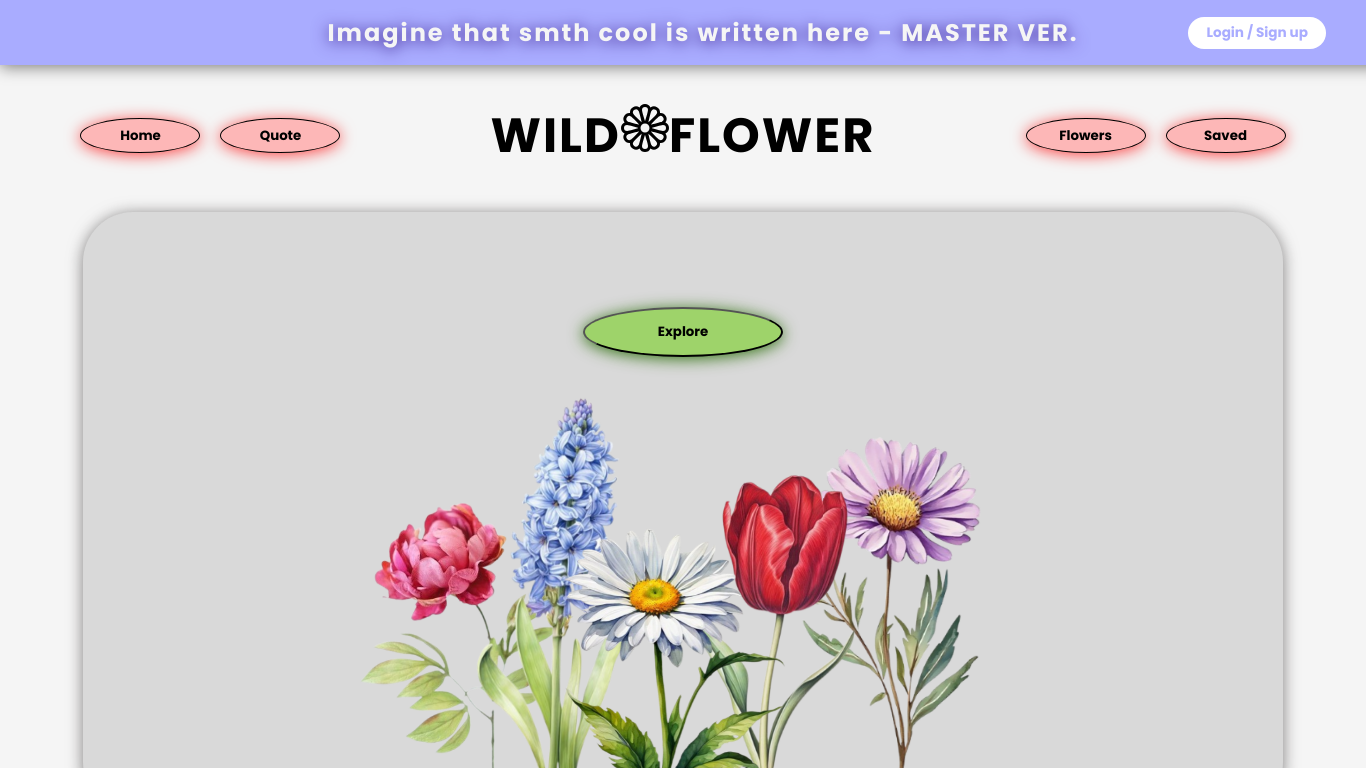
Wildflower App › opens flower modal on click
The width and height of the screenshot is (1366, 768).
Click the button "Flowers" at (1086, 136), box [1026,118,1146,153]
(page scrolled)
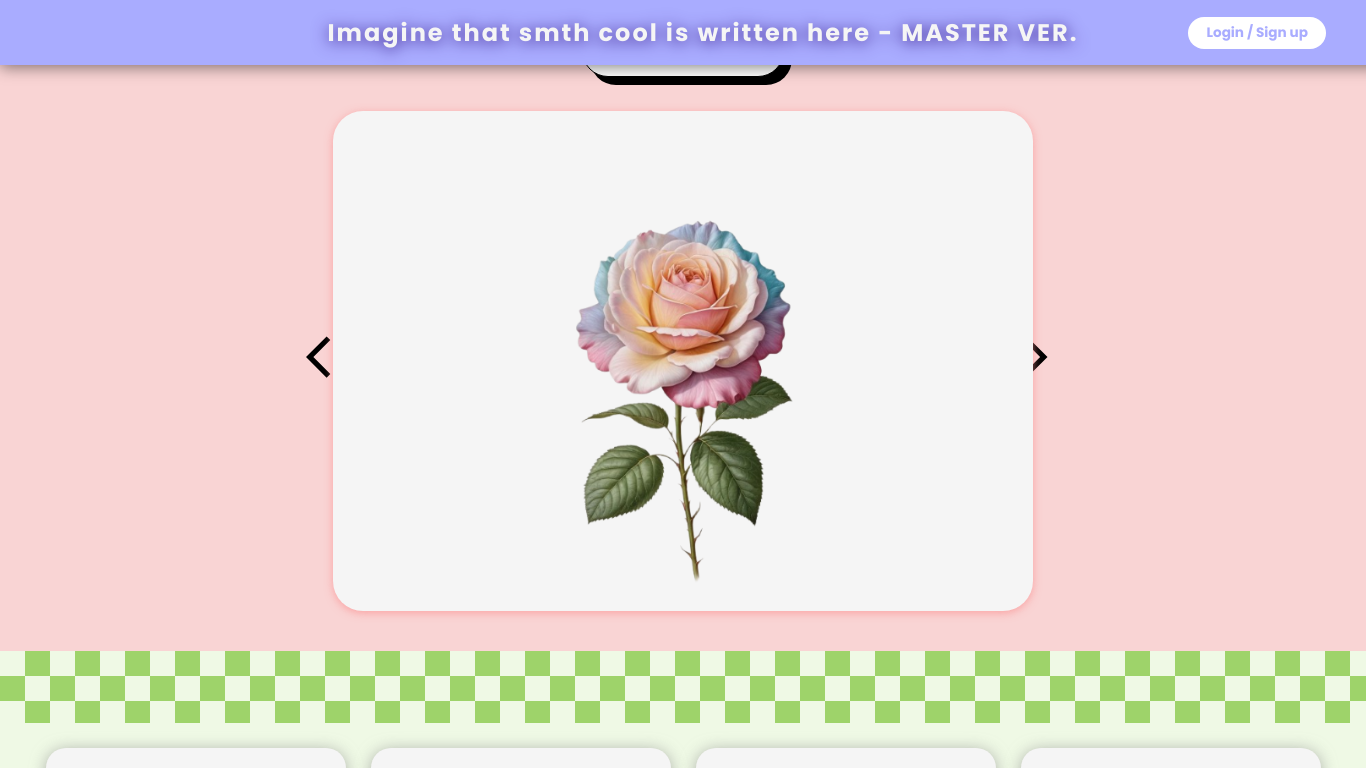
Click the element with class "flower-choosing-box" at (683, 361), box [333,111,1033,611]
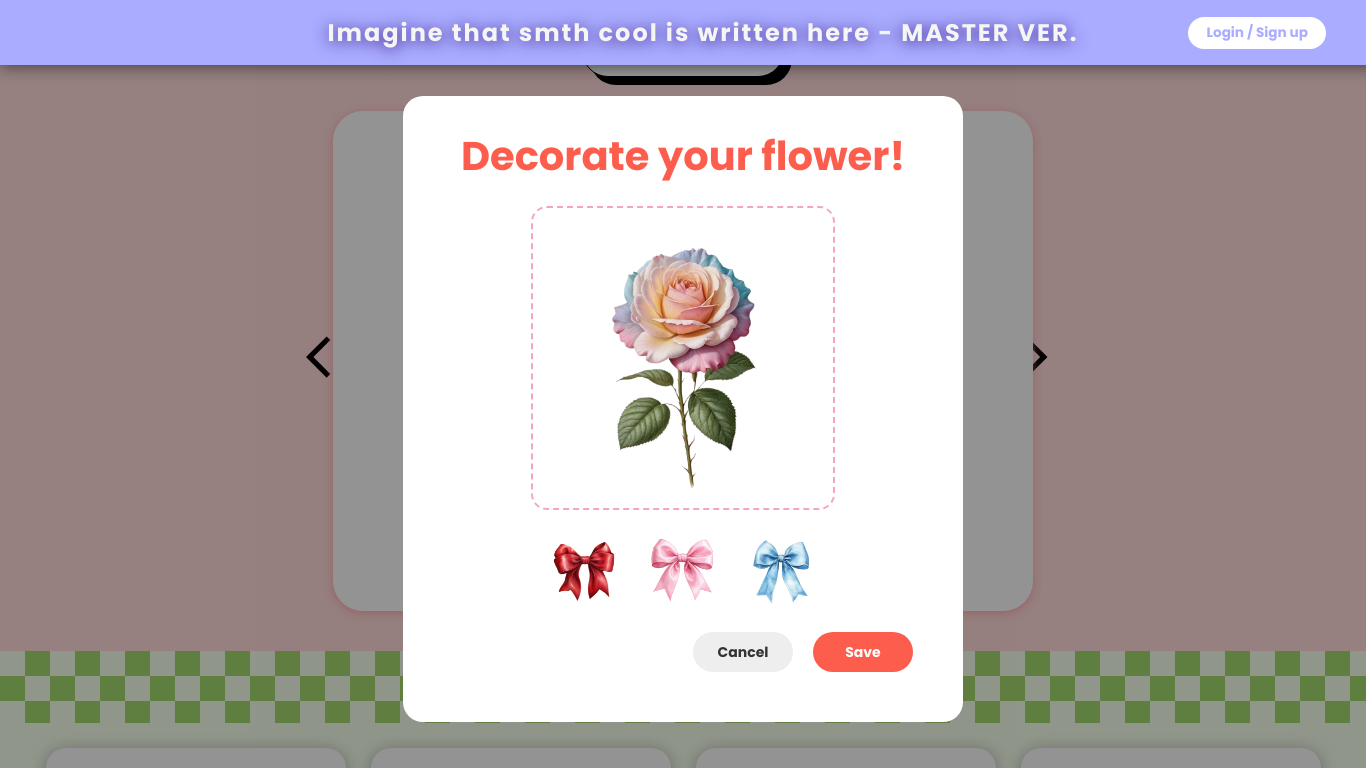
Result: the element with class "modal-content" is shown at [403,96,963,722]
Result: the heading "Decorate your flower!" is shown at [461,126,905,186]
